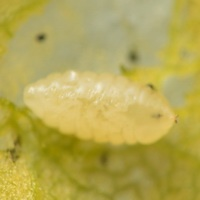insect: (24, 71, 175, 143)
